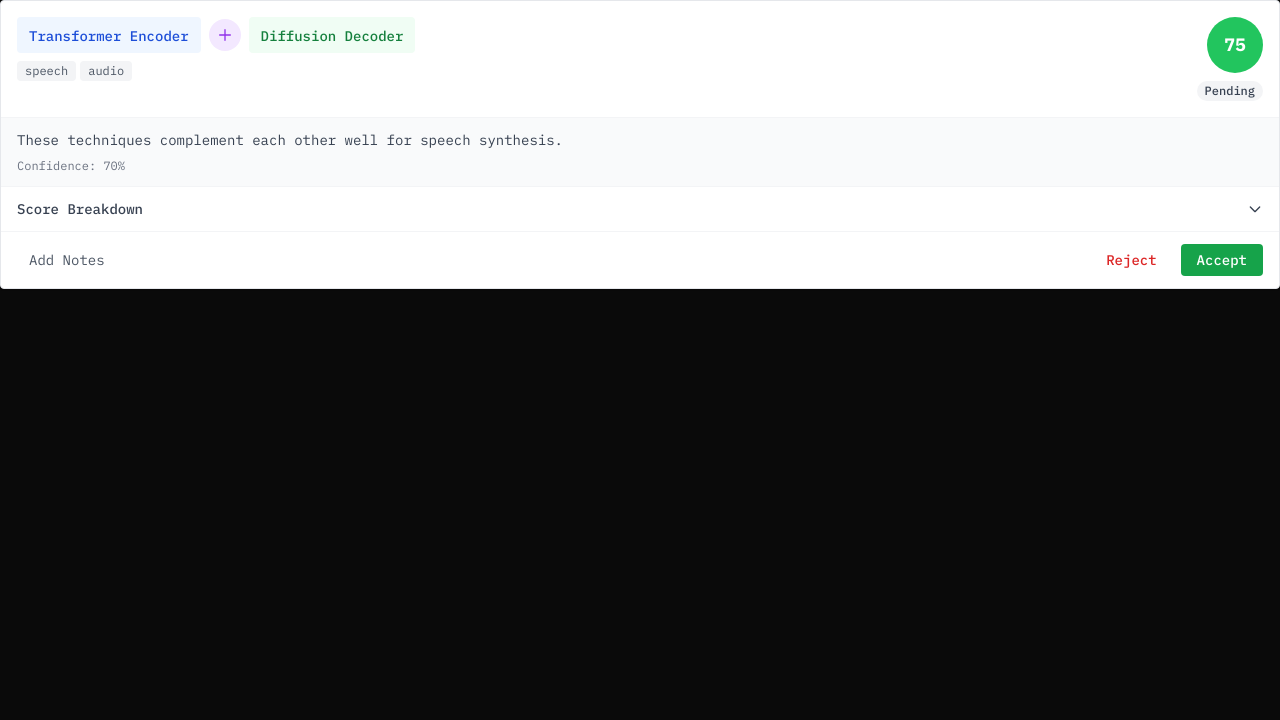
Test: SynergyCard › should toggle score breakdown on click
Click the button "Score Breakdown" at (80, 209), box [17,199,1263,219]
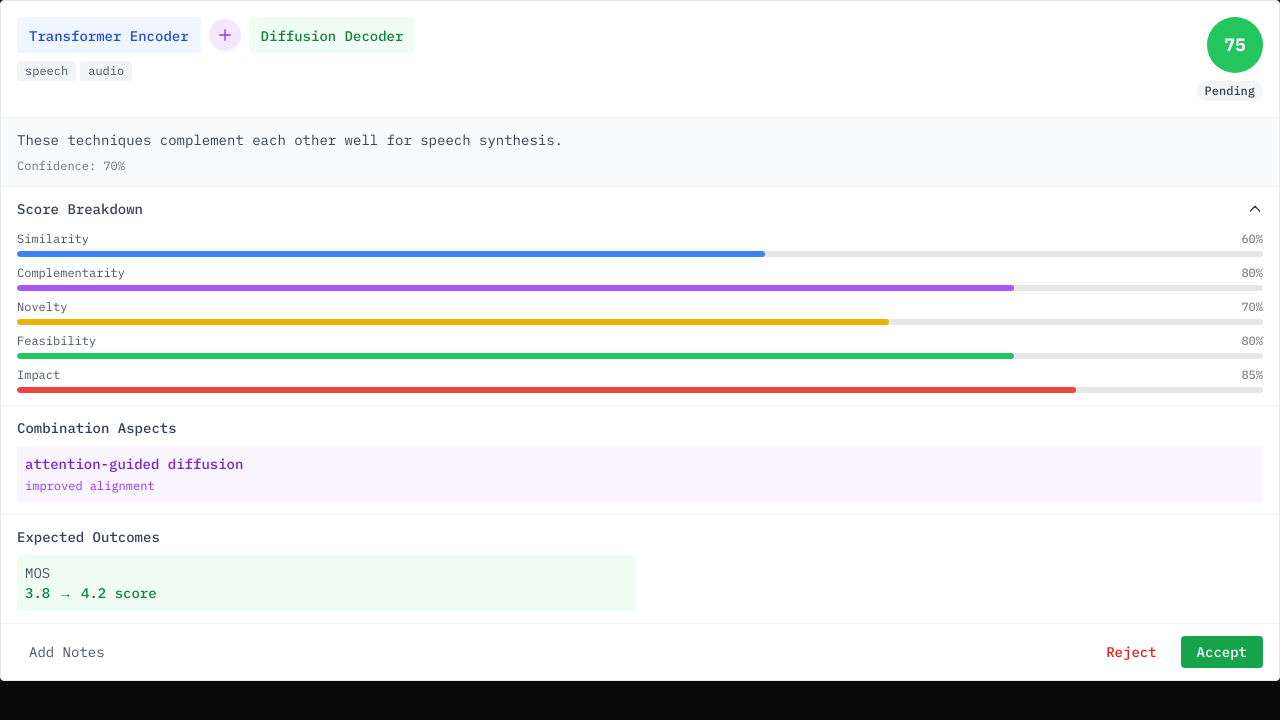
Expected: the text "Similarity" is shown, [17,231,89,247]
Expected: the text "Complementarity" is shown, [17,265,125,281]
Expected: the text "Novelty" is shown, [17,299,67,315]
